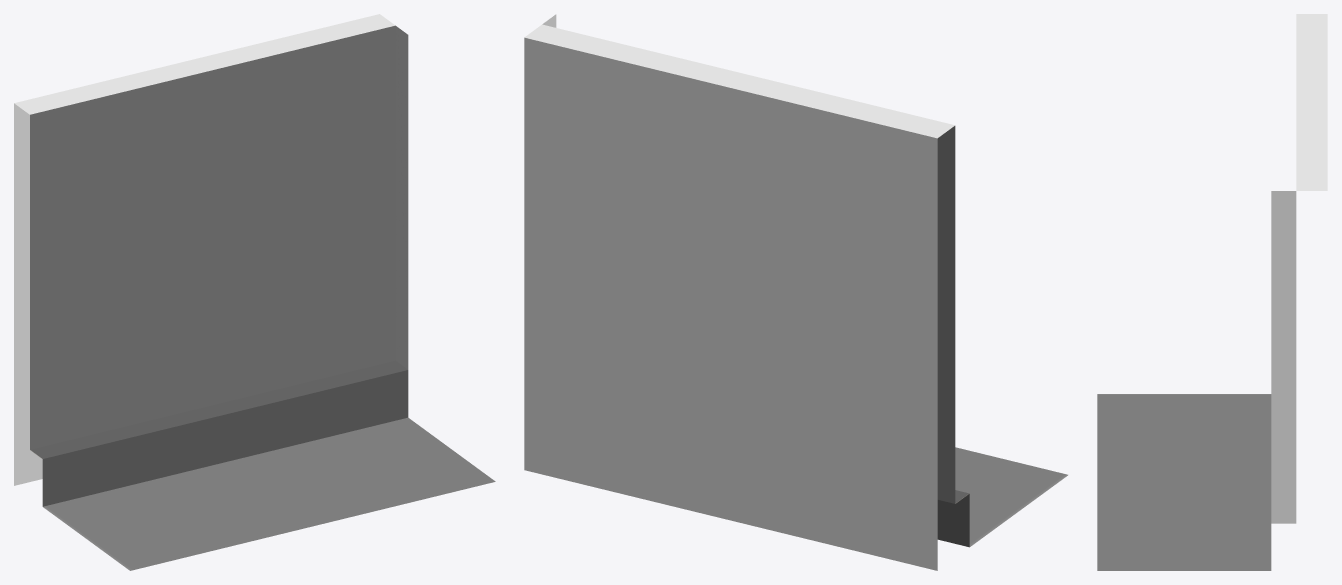
Rendered from E_Wall_Straight_Bare_Bridge.fbx.
The picture shows the model from 3 angles, left to right: view 1: azimuth 30°, elevation 25°; view 2: azimuth 150°, elevation 25°; view 3: azimuth 270°, elevation 25°; orthographic projection. The views are drawn at different scales.
Visible parts, largest first — view 1: E_Wall_Straight_Bare_Bridge; view 2: E_Wall_Straight_Bare_Bridge; view 3: E_Wall_Straight_Bare_Bridge.
Boxes of the visible parts, x1,y1,x2,y2 form: E_Wall_Straight_Bare_Bridge: [14, 14, 495, 570]; E_Wall_Straight_Bare_Bridge: [524, 14, 1067, 570]; E_Wall_Straight_Bare_Bridge: [1097, 14, 1327, 570].
Bounding box in the file's own units: 200 × 200 × 110.
